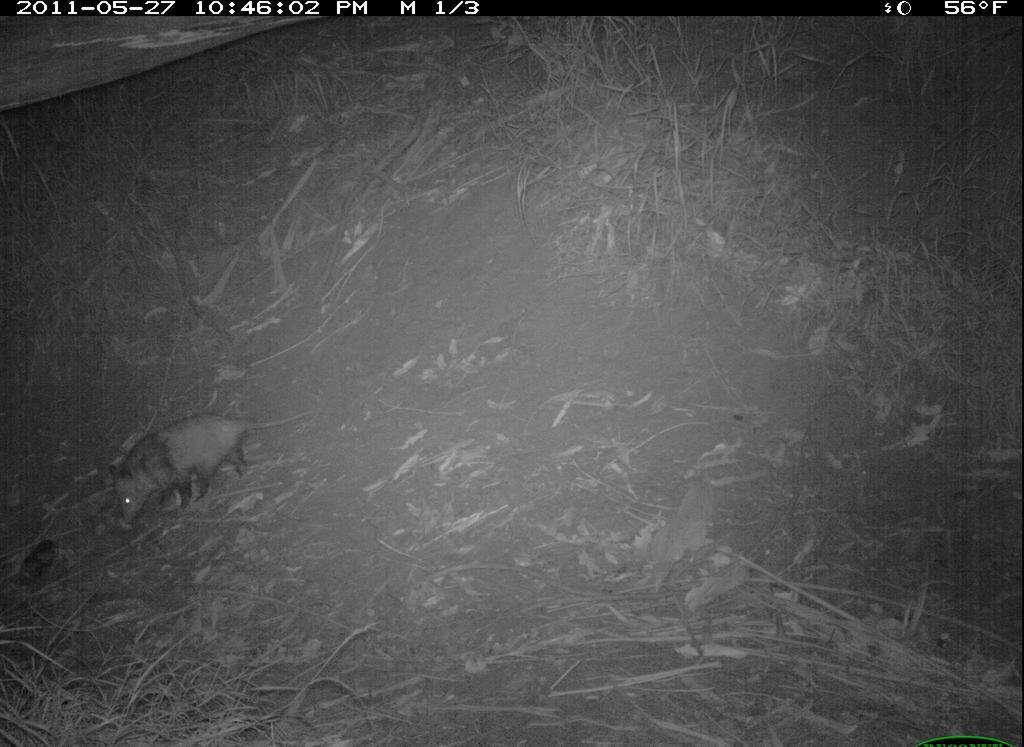opossum: (99, 400, 326, 528)
